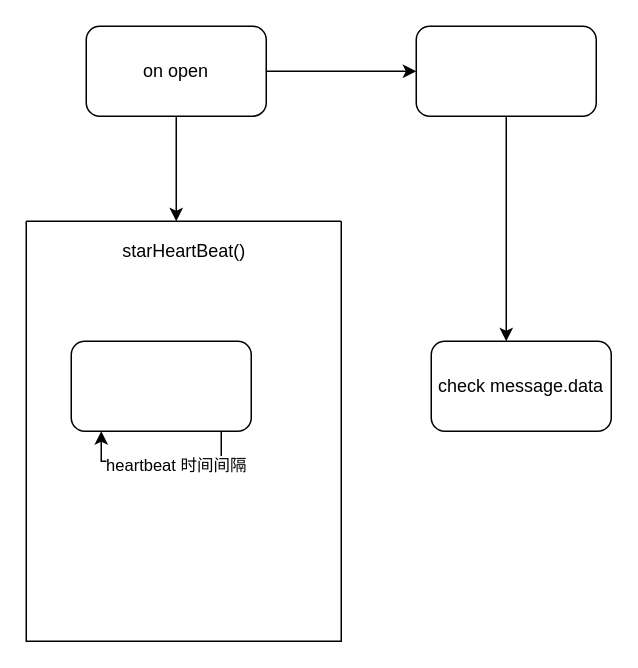
The diagram is 638 pixels wide and 668 high, and some of its shapes have lost their labels. The box of each missing label's shape, as (x1, y1, x2, y2) in pixels:
on message: (415, 25, 596, 116)
ws.send(): (70, 340, 251, 431)
